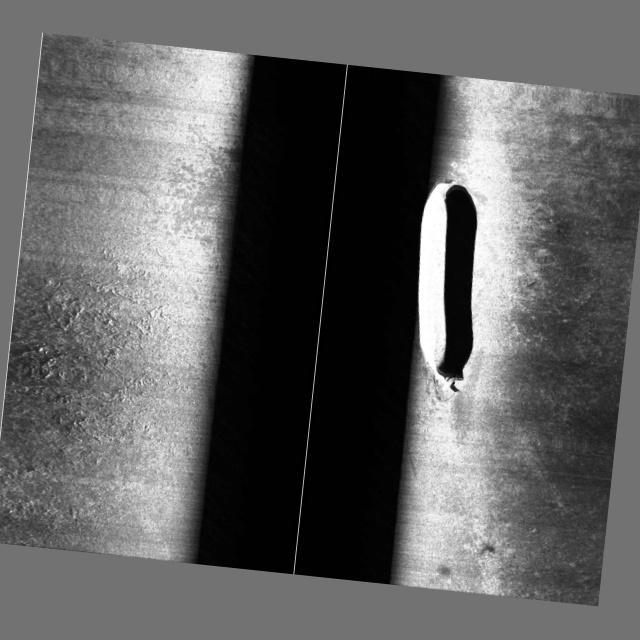Shipwreck: (404, 177, 485, 395)
